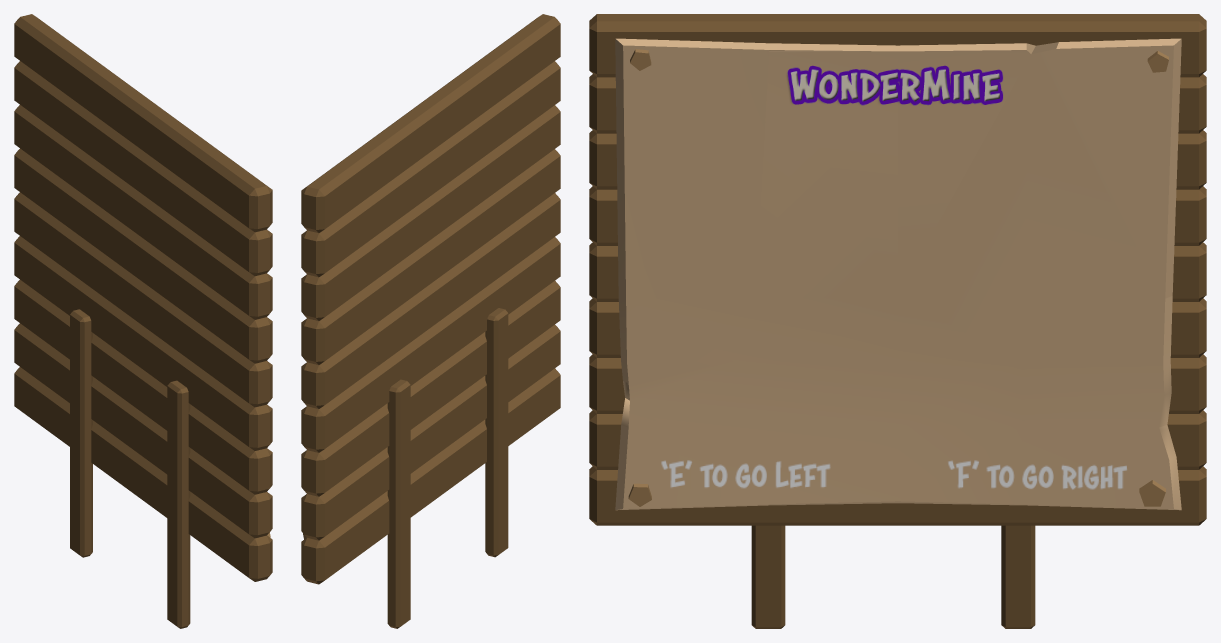
The model's file is WM_Leaderboard_w_Instructions.glb.
3 renders of one model, left to right at view 1: azimuth 30°, elevation 25°; view 2: azimuth 150°, elevation 25°; view 3: azimuth 270°, elevation 25°, orthographic. The views are drawn at different scales.
Parts seen in each view (by area): view 1: polySurface2, polySurface5, polySurface4, polySurface1, polySurface3; view 2: polySurface2, polySurface5, polySurface4, polySurface1, polySurface3; view 3: polySurface2, polySurface5, polySurface1, polySurface3, polySurface4.
Boxes of the visible parts, <box> form: polySurface2: <box>14,192,272,628</box>; polySurface5: <box>14,14,272,232</box>; polySurface4: <box>14,61,272,276</box>; polySurface1: <box>14,148,272,363</box>; polySurface3: <box>14,105,272,319</box>; polySurface2: <box>301,193,560,628</box>; polySurface5: <box>301,14,560,233</box>; polySurface4: <box>301,61,560,277</box>; polySurface1: <box>301,149,560,364</box>; polySurface3: <box>301,105,560,320</box>; polySurface2: <box>589,38,1206,628</box>; polySurface5: <box>589,14,1206,77</box>; polySurface1: <box>589,186,1206,245</box>; polySurface3: <box>589,130,1206,189</box>; polySurface4: <box>589,74,1206,133</box>.
Size of what is drawn, in the model's own units: 1.29 by 13.26 by 12.
1 material, 1 textured.
